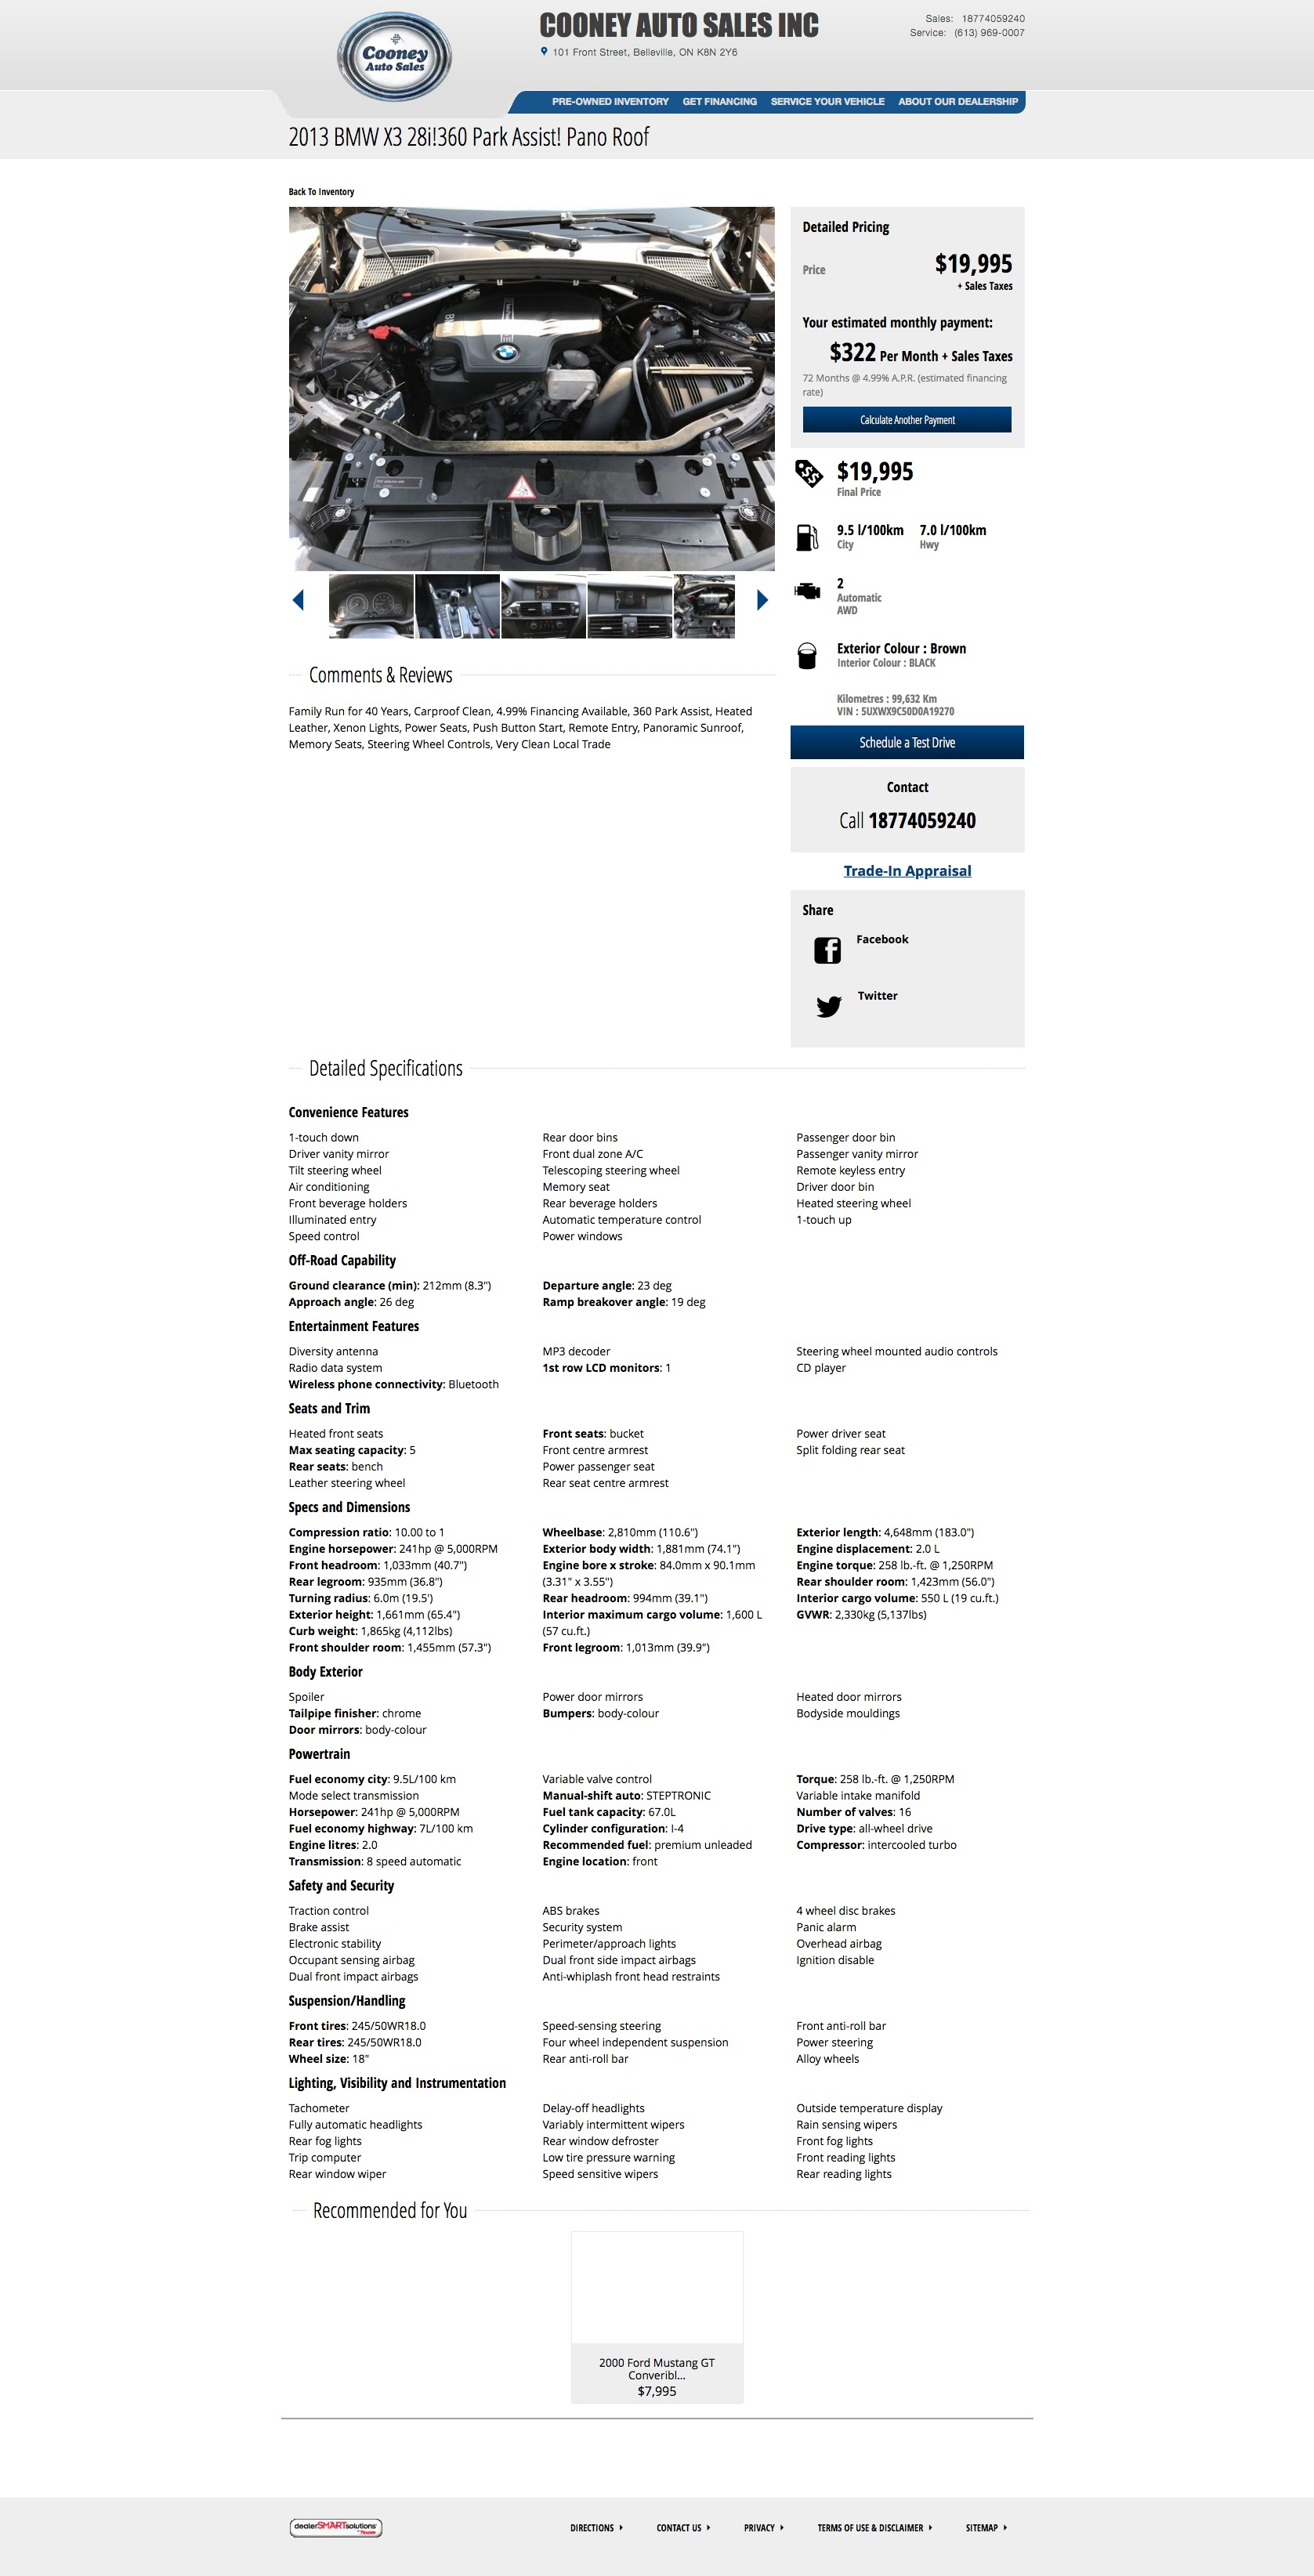car: (756, 588, 769, 613)
